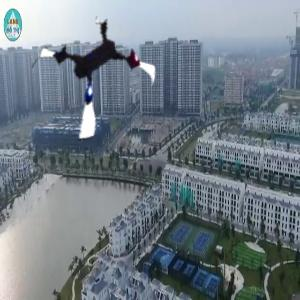drone: (30, 12, 162, 144)
